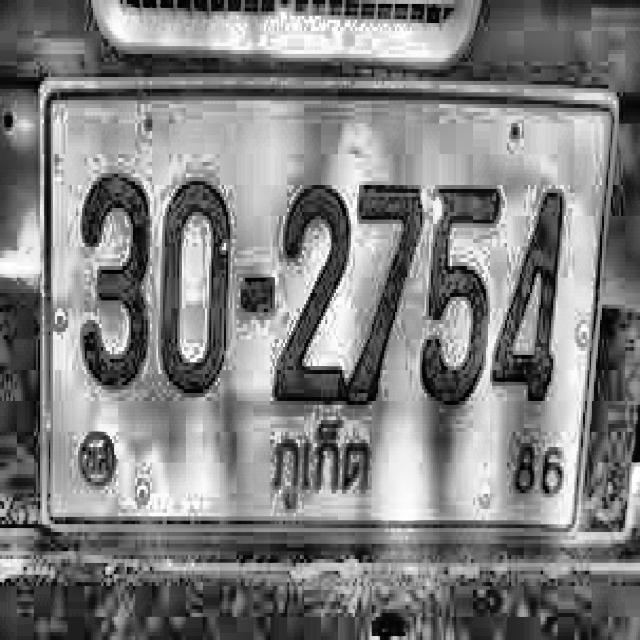license-plate: (23, 60, 626, 549)
